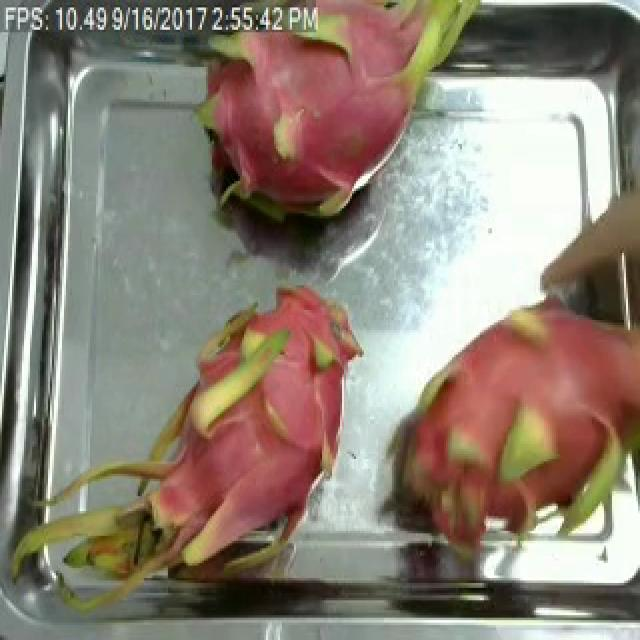Fruit: (532, 179, 640, 352)
